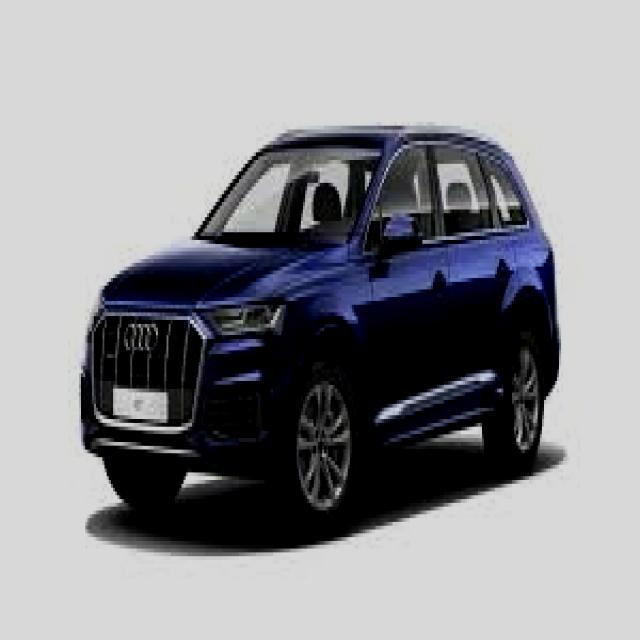blue: (89, 122, 556, 521)
